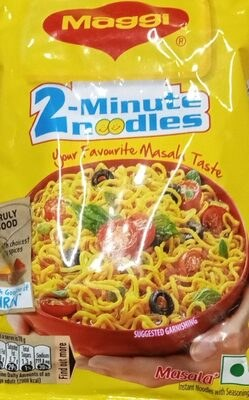maggi: (12, 20, 237, 380)
